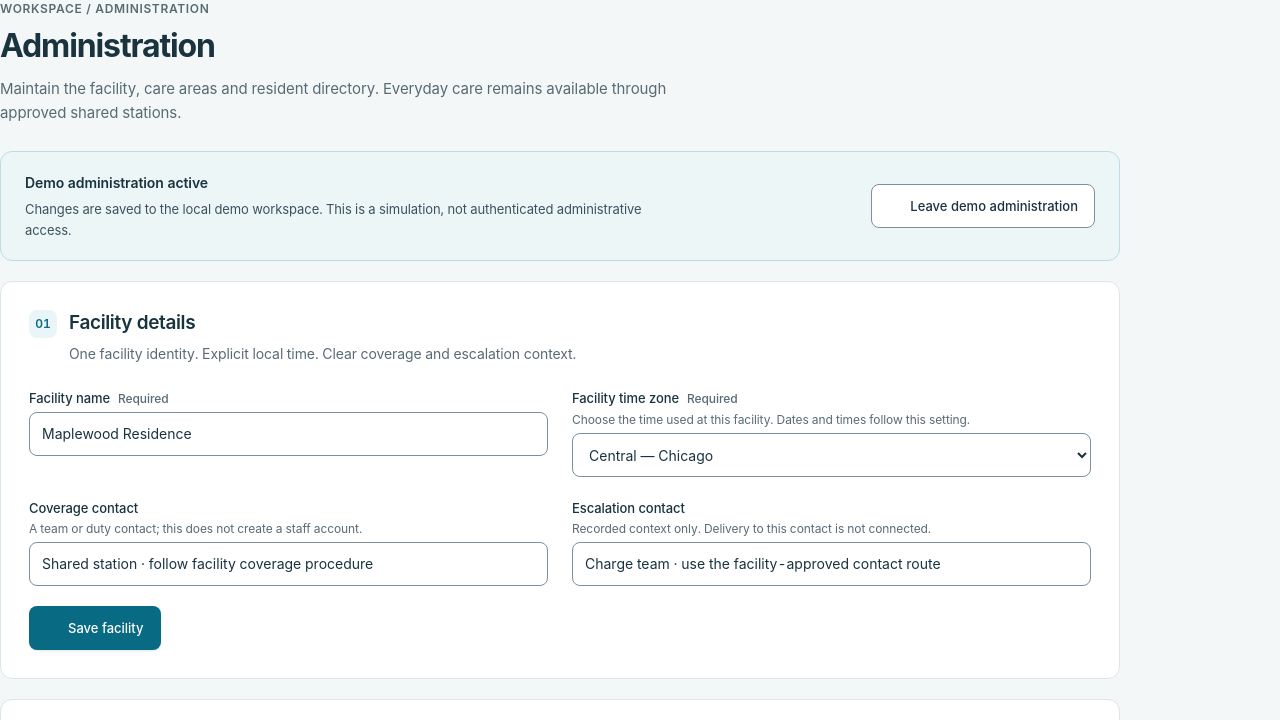
Test: workspace administration › preserves facility details when a save fails instead of showing a success
Step 1. Replace the text in the field labelled "Facility name" with "Unsaved name" → (288, 434), box [29,412,548,456]
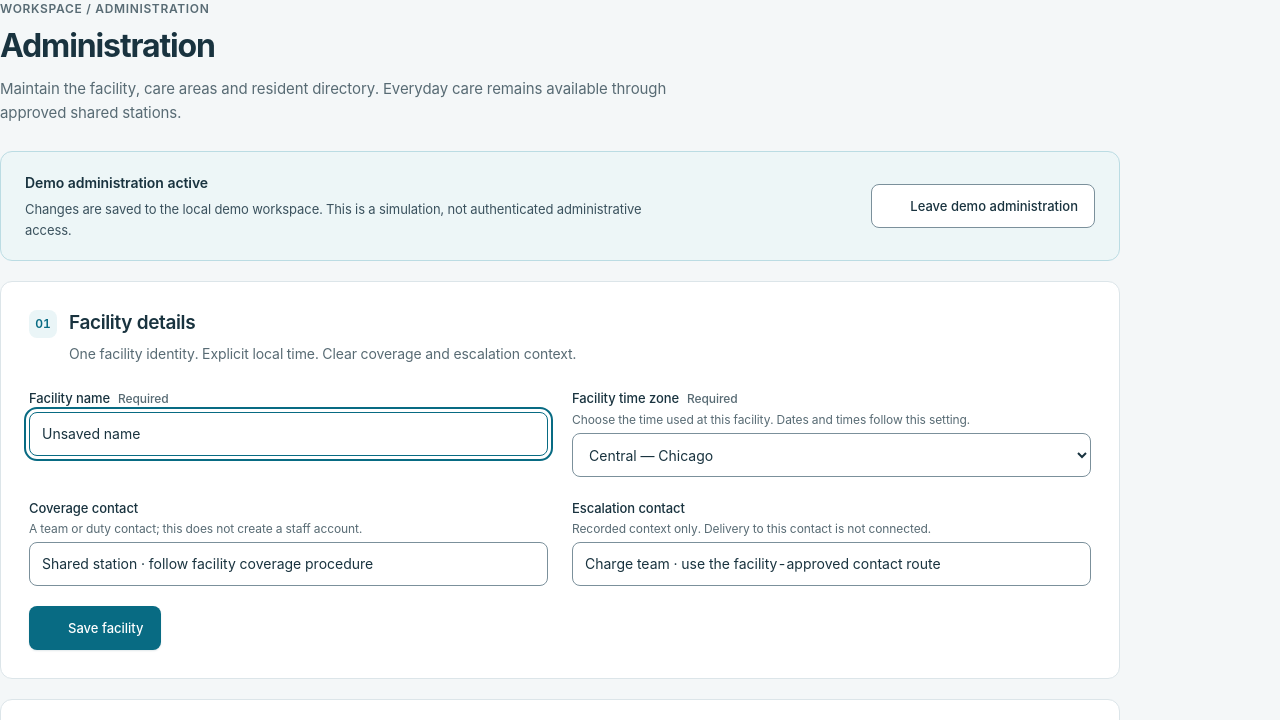
Step 2. Click the button "Save facility" → click(95, 628), box [29,606,160,650]
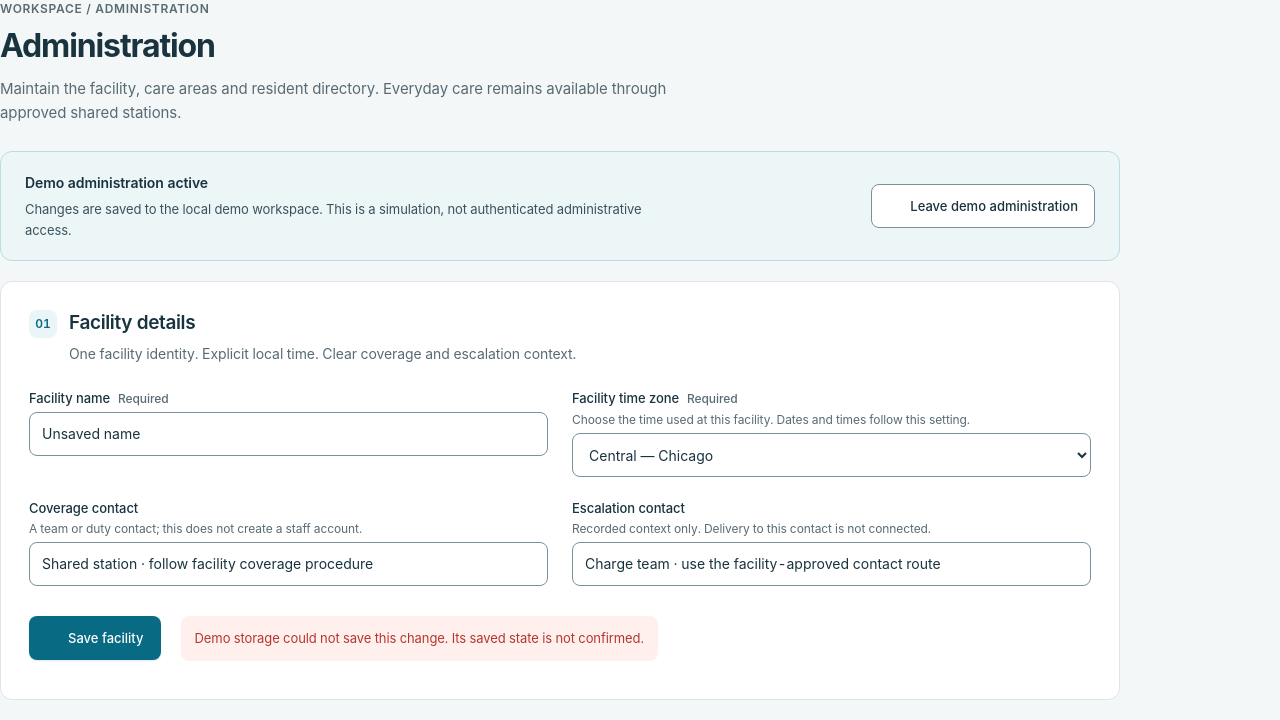
Now the text "Demo storage could not save this change. Its saved state is not confirmed." is shown, box [180,616,658,661]
